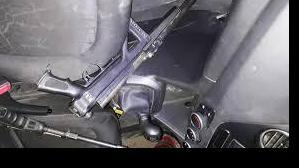larga: (37, 0, 196, 119)
